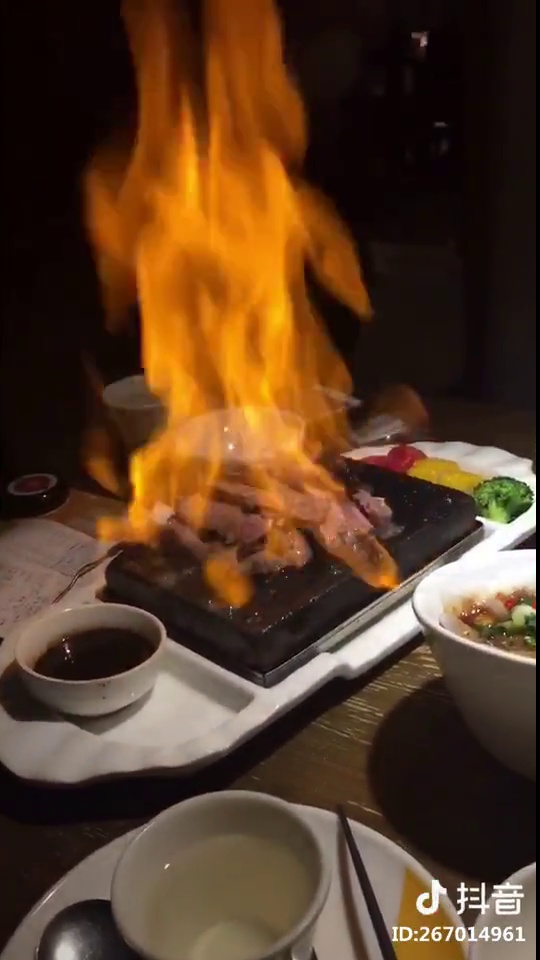fire: (92, 19, 354, 462)
